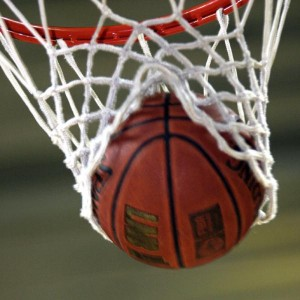basketball: (91, 92, 266, 268)
